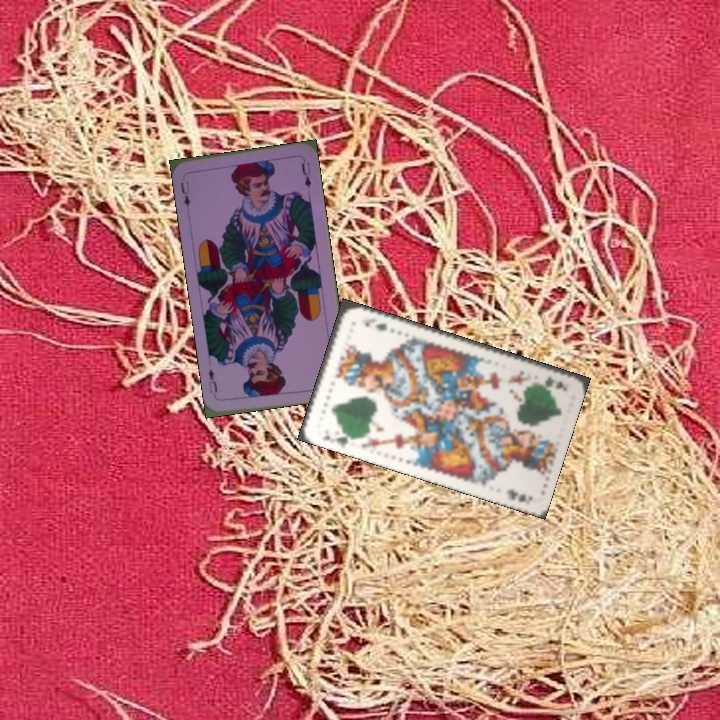EU: (177, 177, 193, 209)
GK: (319, 428, 356, 450), (540, 372, 569, 394)
